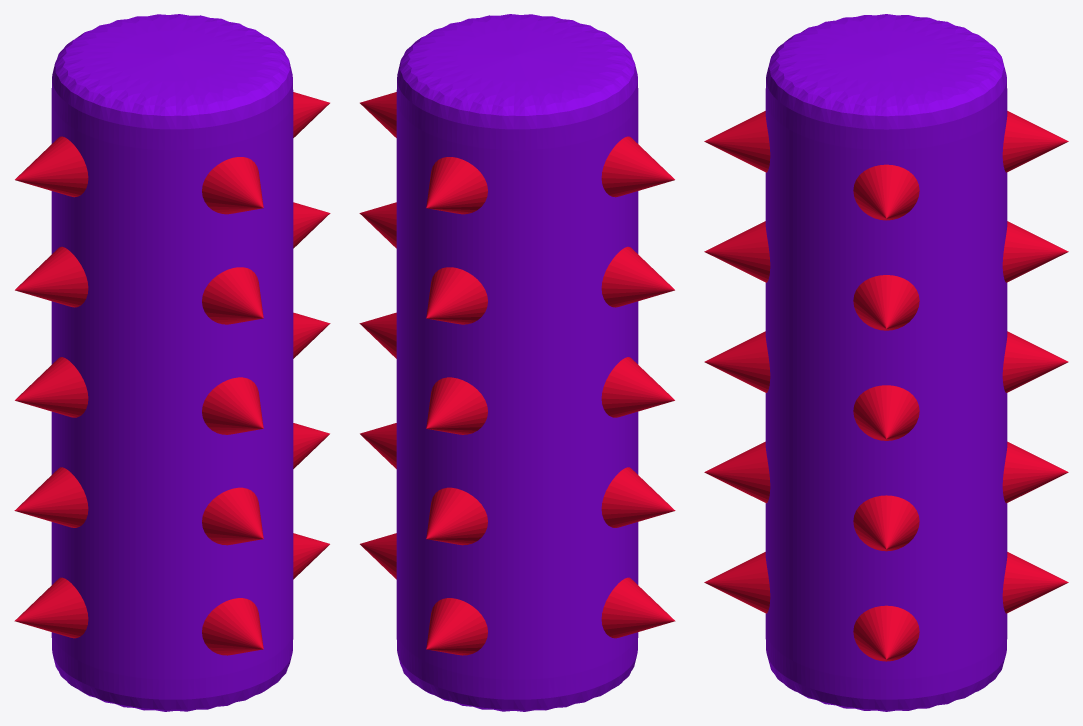
Rendered from diken.fbx.
3 views of the same model, side by side, from view 1: azimuth 30°, elevation 25°; view 2: azimuth 150°, elevation 25°; view 3: azimuth 270°, elevation 25° (orthographic).
Visible parts, largest first — view 1: Cylinder, Cone.026, Cone.022, Cone.023, Cone.024, Cone.025, Cone.008, Cone.007, Cone.009, Cone.005, Cone.006, Cone.020 (+4 smaller); view 2: Cylinder, Cone.014, Cone.010, Cone.011, Cone.012, Cone.013, Cone.008, Cone.007, Cone.009, Cone.005, Cone.006, Cone.020 (+4 smaller); view 3: Cylinder, Cone.021, Cone.004, Cone, Cone.003, Cone.020, Cone.011, Cone.023, Cone.010, Cone.013, Cone.022, Cone.025 (+4 smaller).
Part boxes in pixels (x1,y1,x2,y2): Cylinder: [51, 14, 293, 711]; Cone.026: [202, 487, 263, 545]; Cone.022: [202, 157, 263, 214]; Cone.023: [202, 377, 263, 434]; Cone.024: [202, 267, 263, 324]; Cone.025: [202, 598, 263, 655]; Cone.008: [14, 577, 88, 638]; Cone.007: [15, 246, 88, 307]; Cone.009: [14, 467, 88, 527]; Cone.005: [15, 136, 88, 197]; Cone.006: [15, 357, 88, 417]; Cone.020: [293, 312, 330, 358]; Cylinder: [396, 14, 638, 711]; Cone.014: [426, 487, 487, 545]; Cone.010: [426, 157, 487, 214]; Cone.011: [426, 377, 487, 434]; Cone.012: [426, 267, 487, 324]; Cone.013: [426, 598, 487, 655]; Cone.008: [601, 577, 675, 638]; Cone.007: [601, 246, 674, 307]; Cone.009: [601, 467, 675, 527]; Cone.005: [601, 136, 674, 197]; Cone.006: [601, 357, 674, 417]; Cone.020: [359, 312, 396, 358]; Cylinder: [765, 14, 1007, 711]; Cone.021: [853, 164, 919, 220]; Cone.004: [853, 275, 919, 330]; Cone: [853, 495, 919, 551]; Cone.003: [853, 605, 919, 661]; Cone.020: [853, 385, 919, 440]; Cone.011: [1002, 331, 1068, 392]; Cone.023: [704, 331, 770, 392]; Cone.010: [1002, 111, 1068, 172]; Cone.013: [1002, 552, 1068, 613]; Cone.022: [704, 111, 770, 172]; Cone.025: [704, 552, 770, 613].
Bounding box in the file's own units: 300 × 557 × 300.
